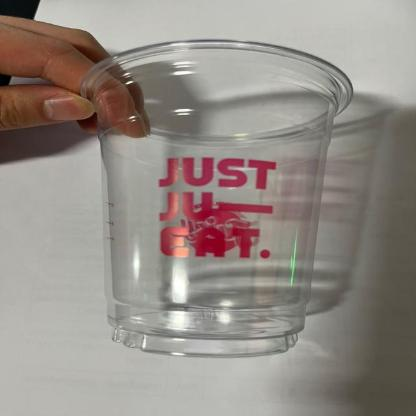Plastic Cup: (82, 36, 356, 358)
